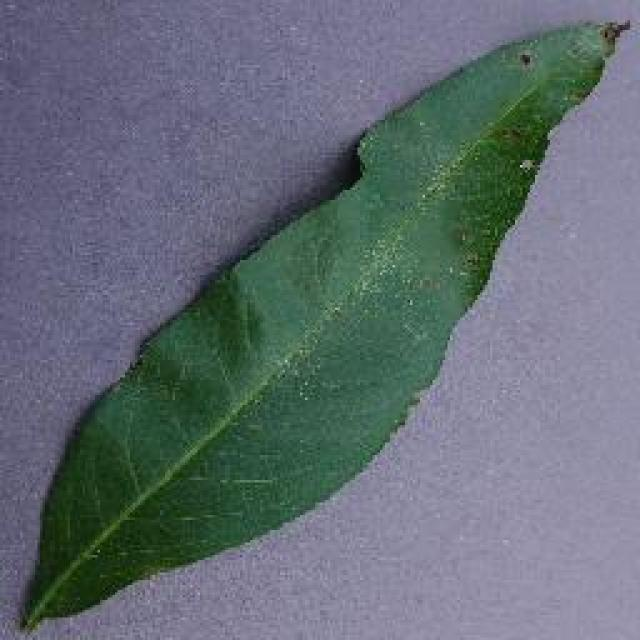Bacterial_spot: (507, 37, 542, 75)
